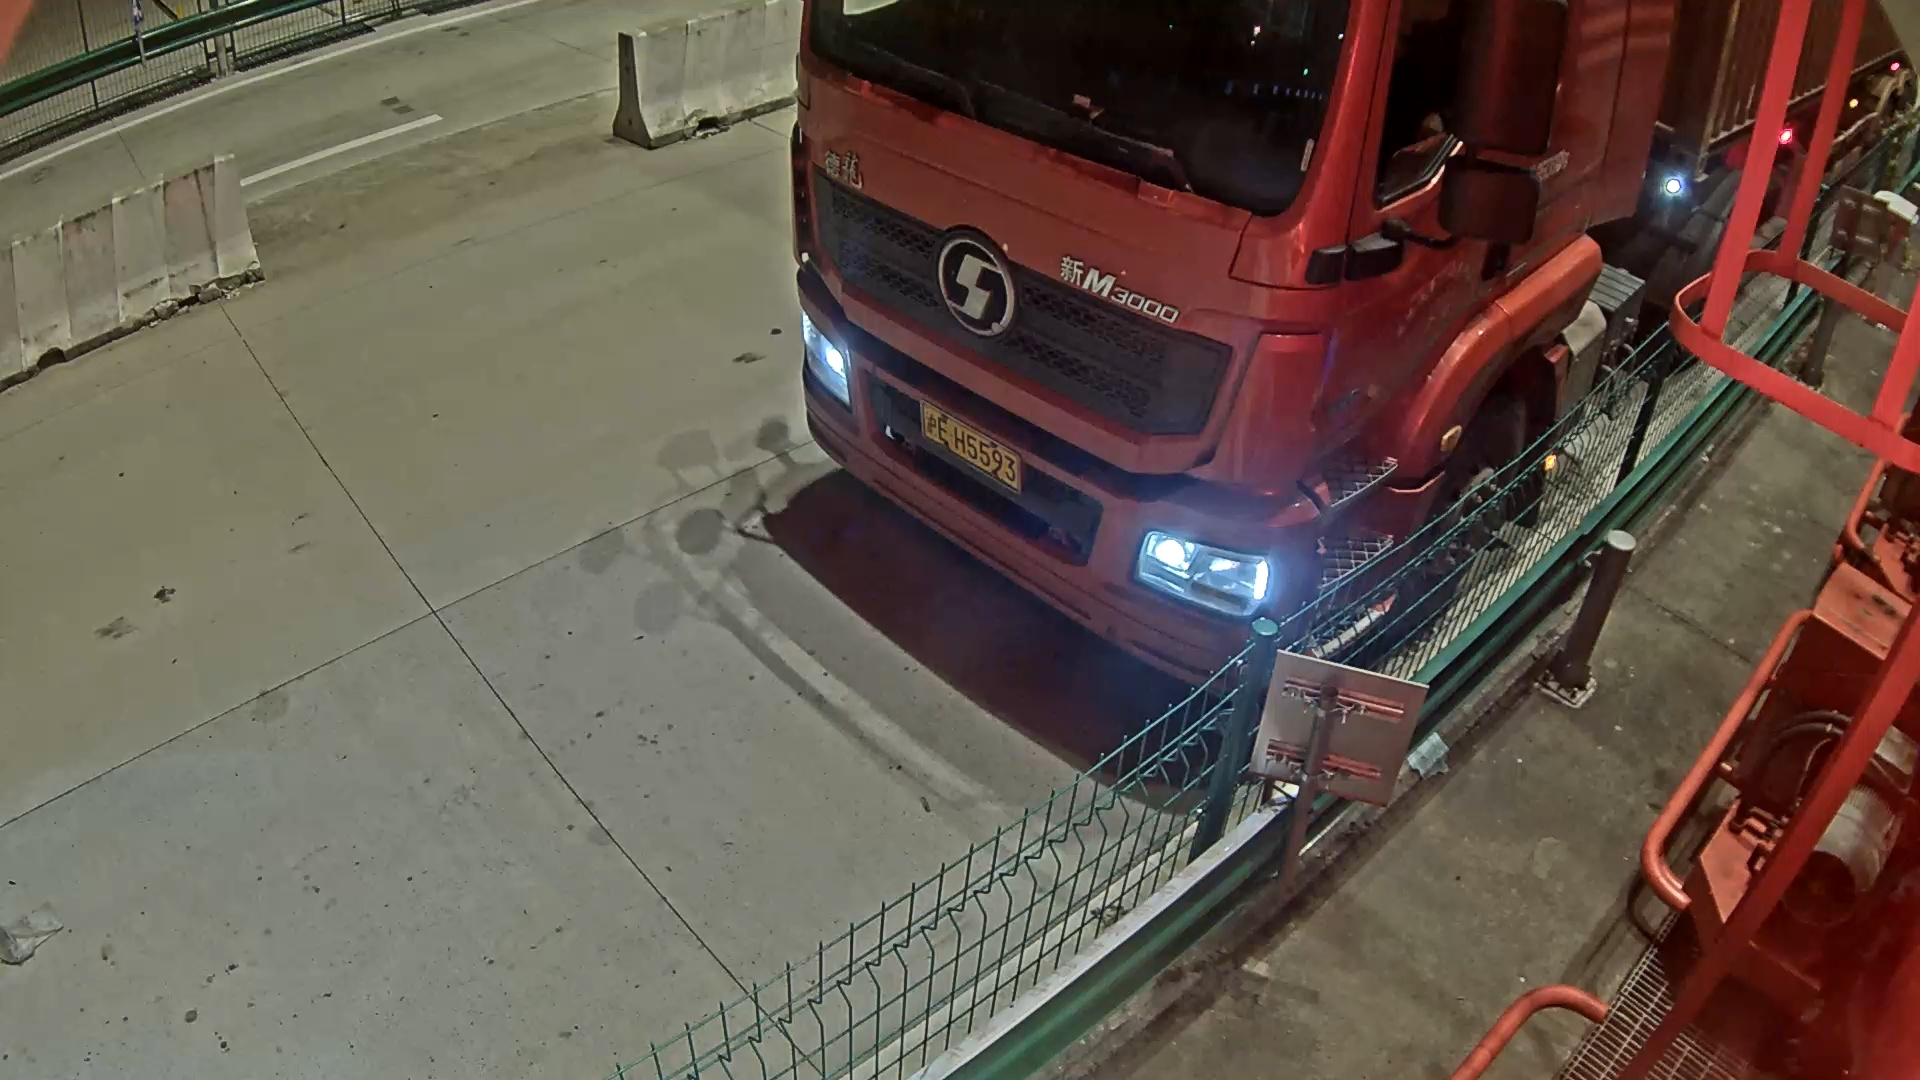head: (800, 1, 1679, 676)
plate: (920, 399, 1021, 485)
